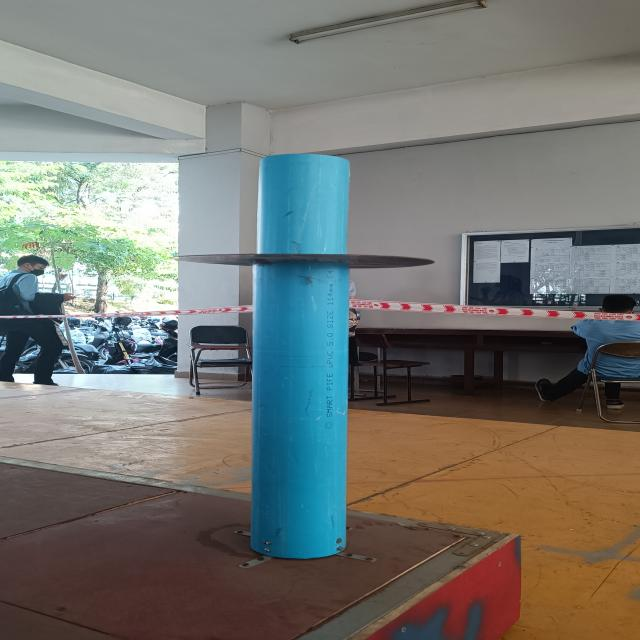pole: (186, 150, 430, 362)
